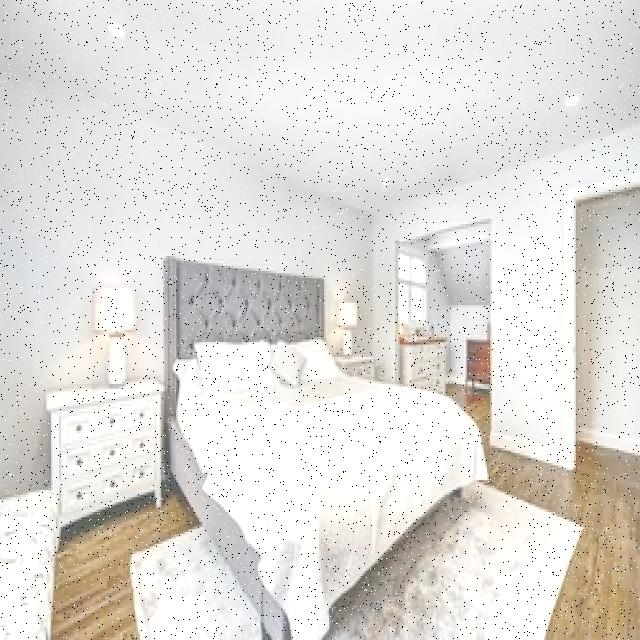bed: (168, 318, 490, 577)
